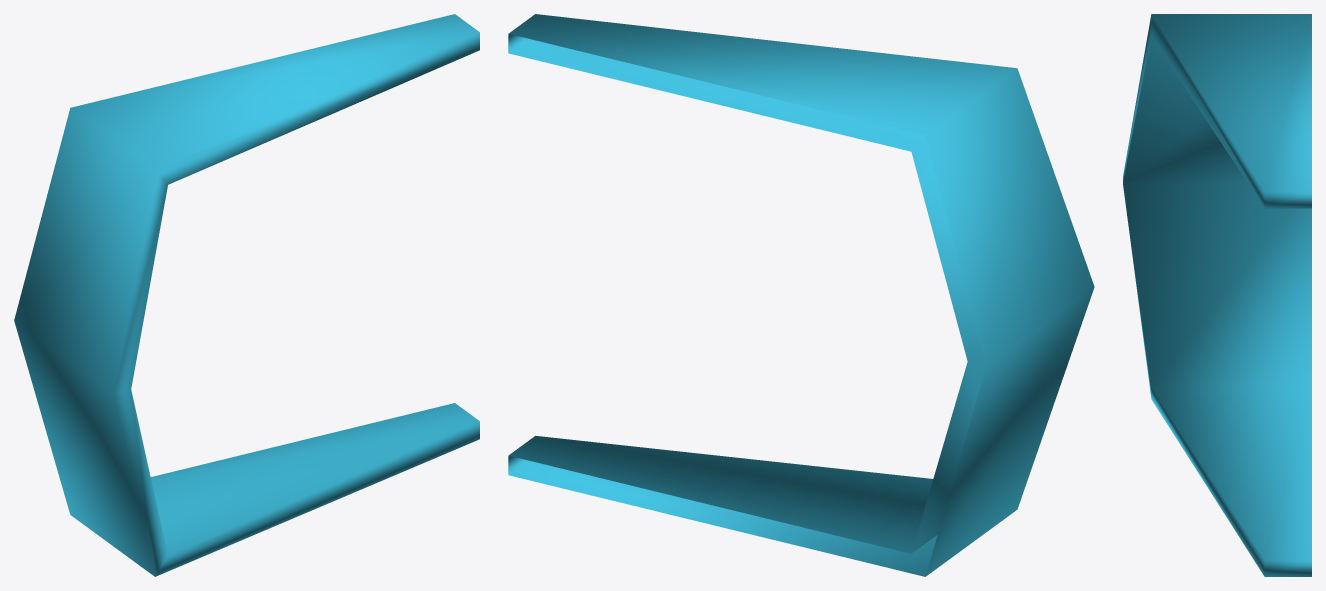
The model's file is machine8_glass.fbx.
3 views of the same model, side by side, from view 1: azimuth 30°, elevation 25°; view 2: azimuth 150°, elevation 25°; view 3: azimuth 270°, elevation 25° (orthographic). The views are drawn at different scales.
Parts seen in each view (by area): view 1: Plane_009; view 2: Plane_009; view 3: Plane_009.
Boxes of the visible parts, x1,y1,x2,y2 form: Plane_009: (14, 14, 479, 576); Plane_009: (508, 14, 1094, 576); Plane_009: (1123, 14, 1311, 576).
Size of the model in its own units: 5.1 by 4.5 by 2.
Materials: 1 (1 with a texture image).
